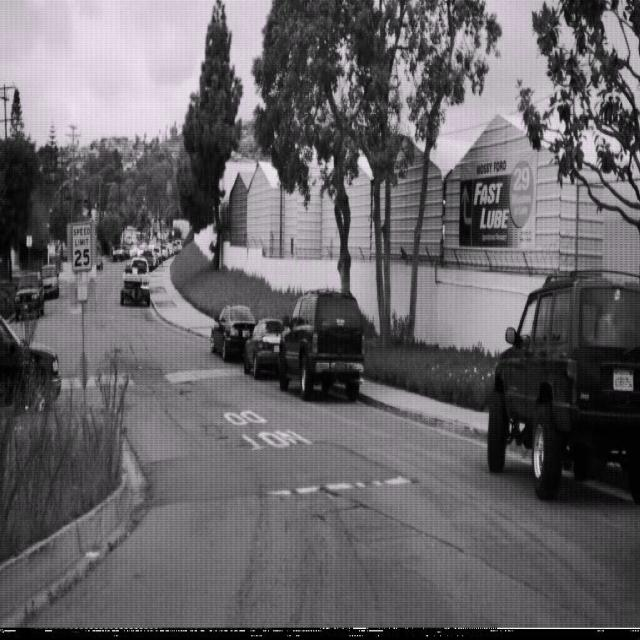speedLimit25: (70, 221, 92, 273)
